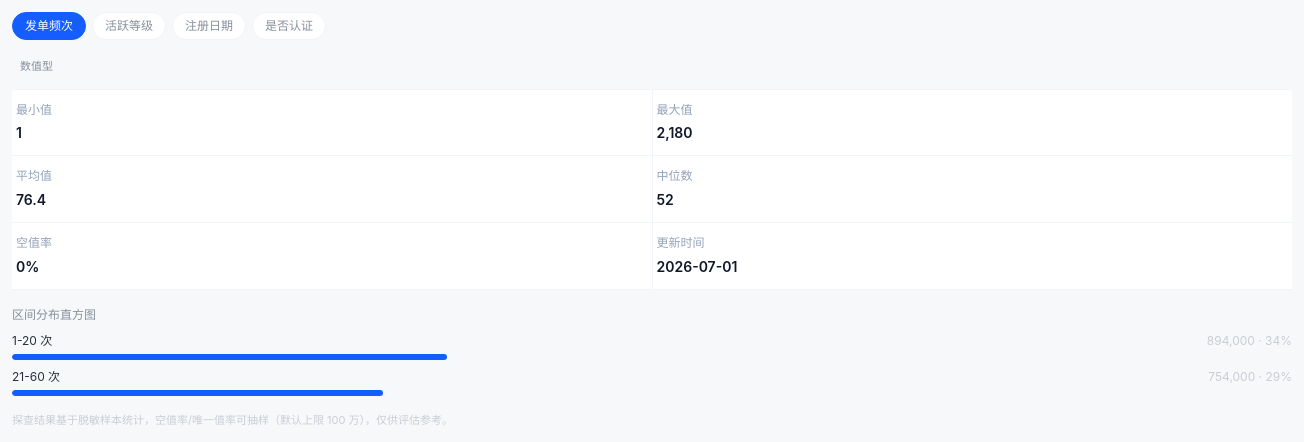
Test: FieldProfilingPanel › renders boolean TRUE/FALSE ratio bar
What coordinates should you click on to do the following:
click the tab "是否认证"
I would click on:
 (289, 26)
Its box is [252,12,326,40].
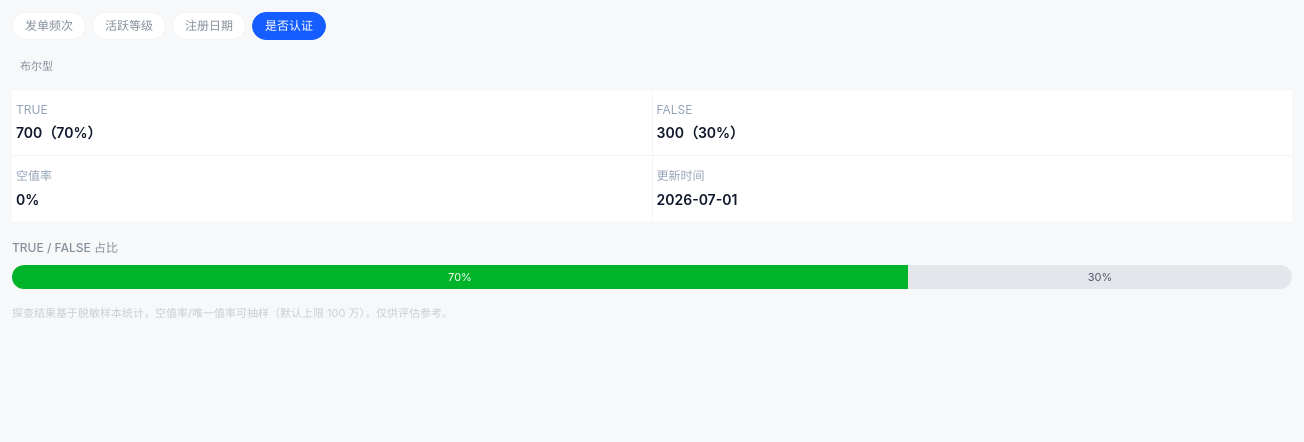
expect the text "布尔型" is shown: met, box [12,56,61,76]
expect the text "TRUE / FALSE 占比" is shown: met, box [12,240,118,255]
expect the text "700" is shown: met, box [16,124,102,141]
